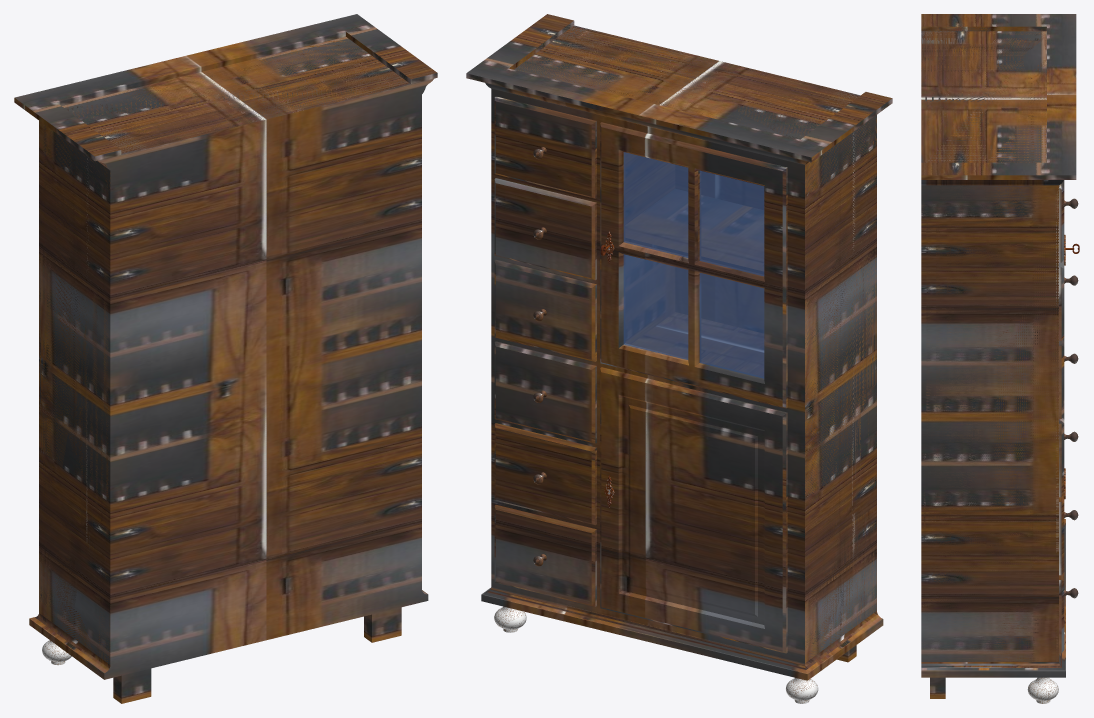
The picture shows the model from 3 angles, left to right: view 1: azimuth 30°, elevation 25°; view 2: azimuth 150°, elevation 25°; view 3: azimuth 270°, elevation 25°; orthographic projection. The views are drawn at different scales.
Parts seen in each view (by area): view 1: mesh9_mesh9-geometry; view 2: mesh9_mesh9-geometry, mesh5_mesh5-geometry, mesh6_mesh6-geometry; view 3: mesh9_mesh9-geometry, mesh5_mesh5-geometry, mesh6_mesh6-geometry.
Boxes of the visible parts, box(x1,y1,x2,y2) form: mesh9_mesh9-geometry: box(14, 14, 437, 703); mesh9_mesh9-geometry: box(466, 14, 892, 680); mesh5_mesh5-geometry: box(494, 606, 818, 703); mesh6_mesh6-geometry: box(533, 147, 546, 566); mesh9_mesh9-geometry: box(921, 14, 1076, 698); mesh5_mesh5-geometry: box(1027, 677, 1058, 703); mesh6_mesh6-geometry: box(1064, 198, 1078, 598).
Bounding box in the file's own units: 0.5273 × 0.8211 × 0.2186.
